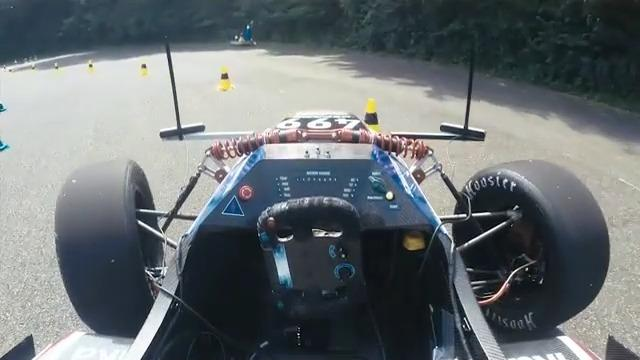yellow_cone: (356, 98, 386, 150), (217, 66, 235, 91), (138, 60, 150, 76)
